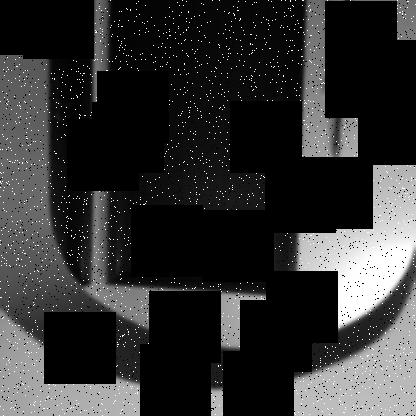Porte: (104, 1, 308, 300)
